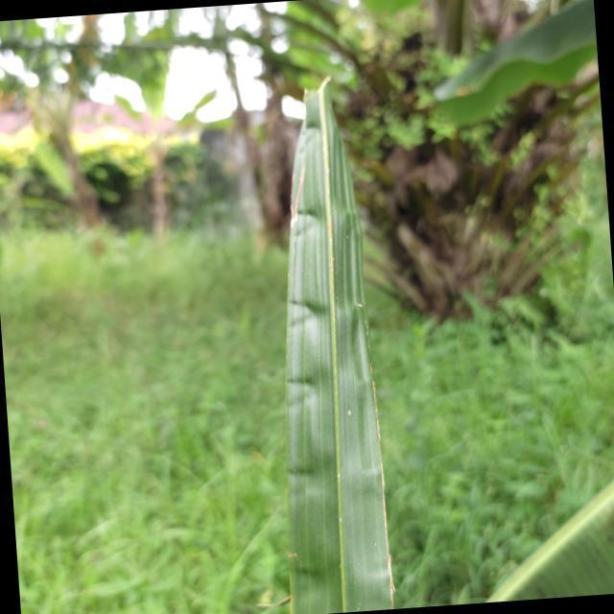Boron: (286, 60, 393, 614)
